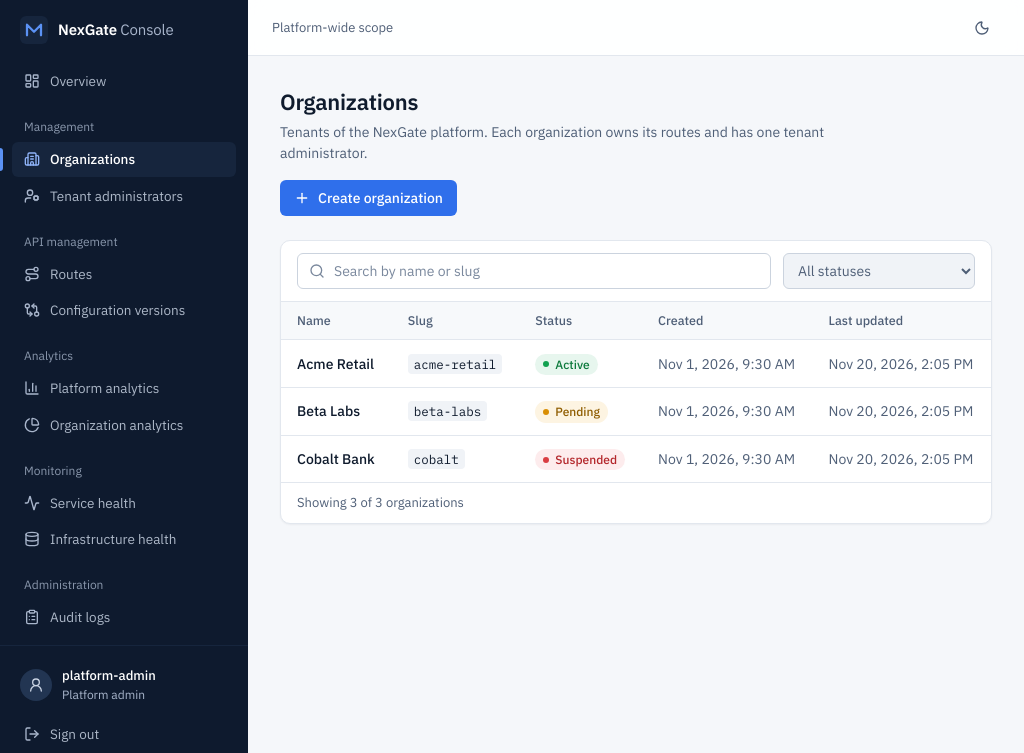
Test: organizations page › creates an organization with an auto-suggested slug and opens it
Step 1. Click the button "Create organization" → (368, 198), box [280, 180, 457, 216]
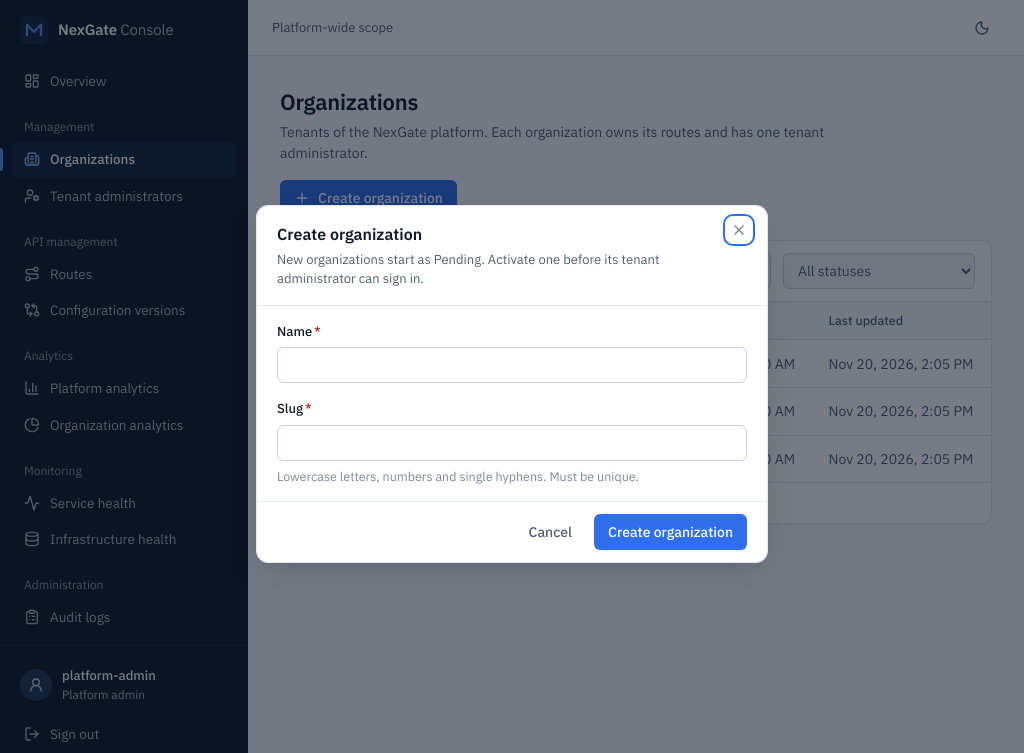
Step 2. Type "Delta Freight" into the field labelled "Name*" → (512, 365), box [277, 347, 747, 383]
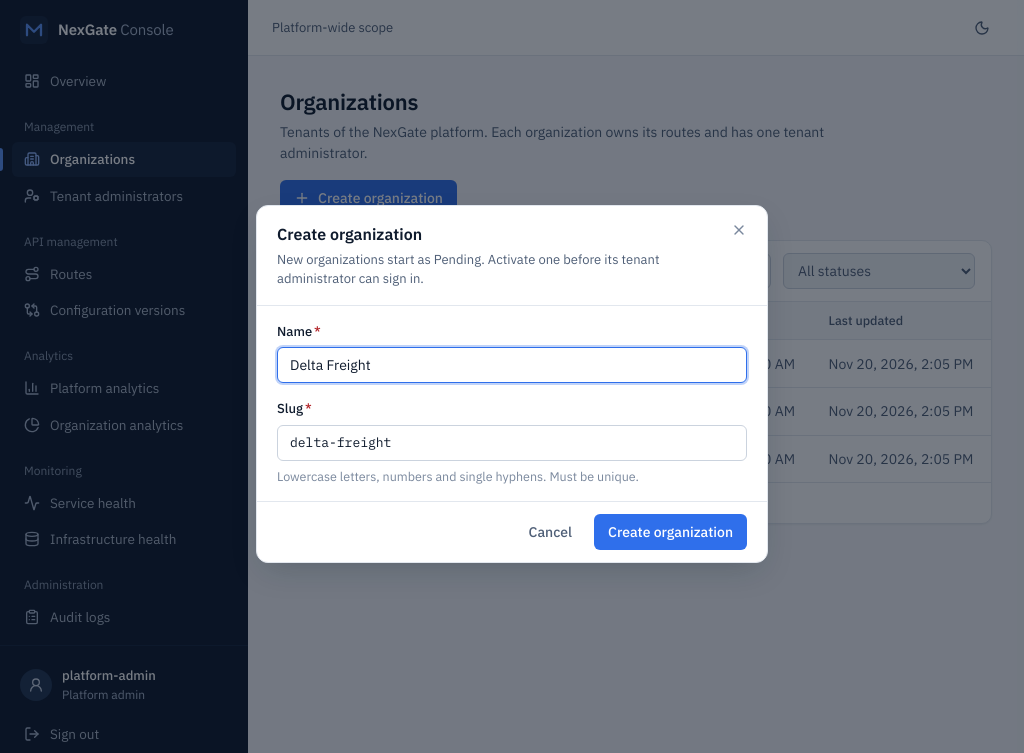
Result: the field labelled "Slug*" holds "delta-freight" at [277, 425, 747, 461]
Step 3. Click the button "Create organization" → (670, 532), box [594, 514, 747, 550]
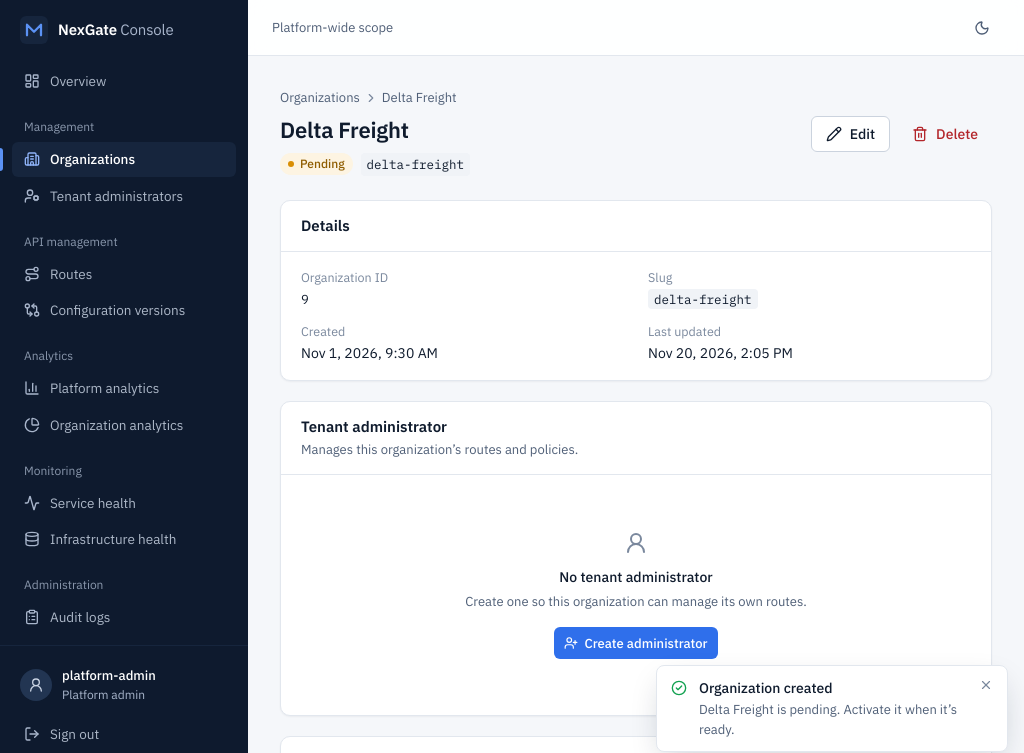
Result: the text "Organization created" is shown at [699, 679, 833, 697]
Result: the text "No tenant administrator" is shown at [559, 567, 713, 588]
